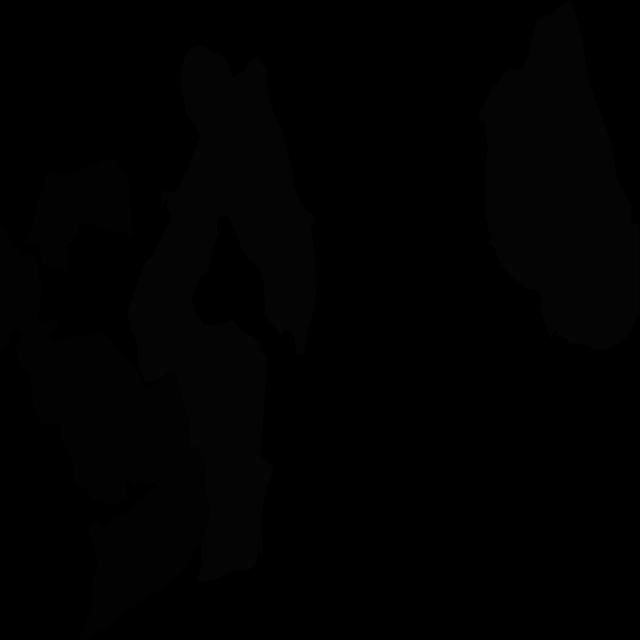cardboard: (79, 369, 210, 640), (16, 319, 166, 506), (23, 159, 133, 271), (0, 222, 42, 351)
soft_plastic: (128, 46, 317, 582), (478, 0, 640, 349)
